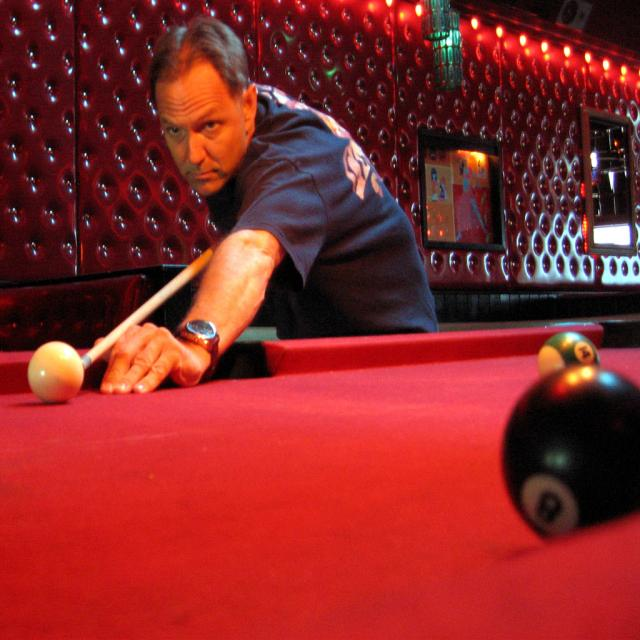Ball: (500, 365, 640, 539), (28, 342, 83, 402), (538, 332, 600, 373)
Billiard table: (0, 319, 640, 640)
